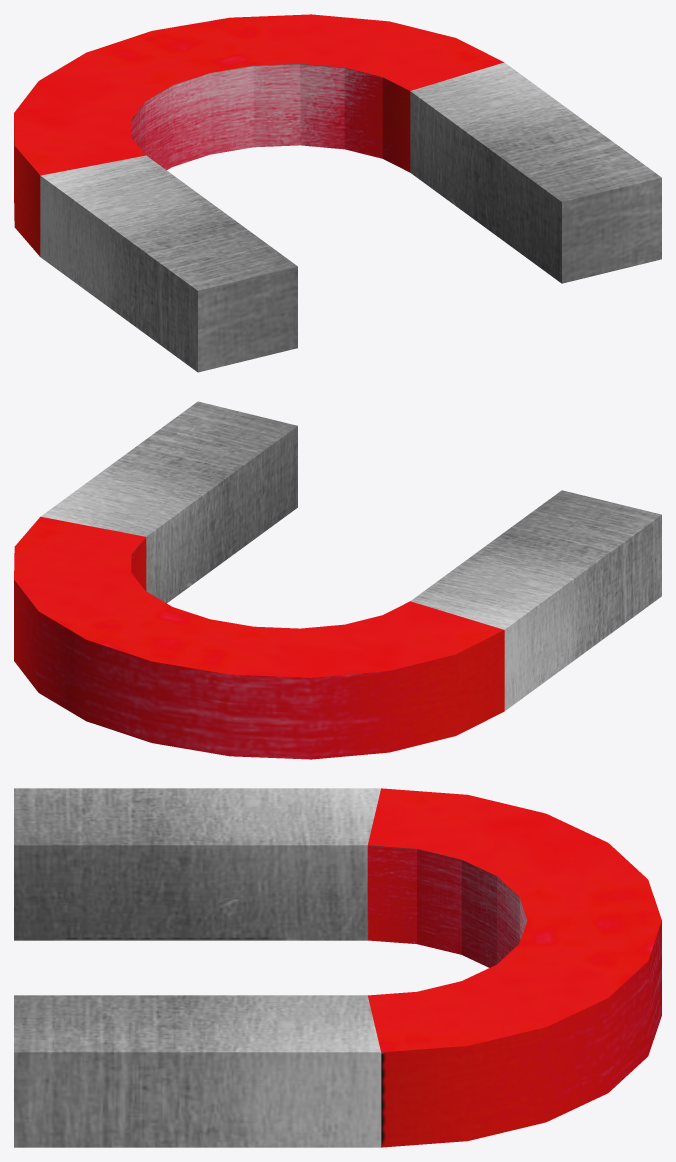
The model's file is Magnet.fbx.
3 renders of one model, top to bottom at view 1: azimuth 30°, elevation 25°; view 2: azimuth 150°, elevation 25°; view 3: azimuth 270°, elevation 25°, orthographic. The views are drawn at different scales.
Visible parts, largest first — view 1: pCylinder1; view 2: pCylinder1; view 3: pCylinder1.
Boxes of the visible parts, box(x1,y1,x2,y2) form: pCylinder1: box(14, 14, 661, 372); pCylinder1: box(14, 401, 661, 759); pCylinder1: box(14, 788, 661, 1147).
Bounding box in the file's own units: 48.79 × 8.2 × 50.6.
